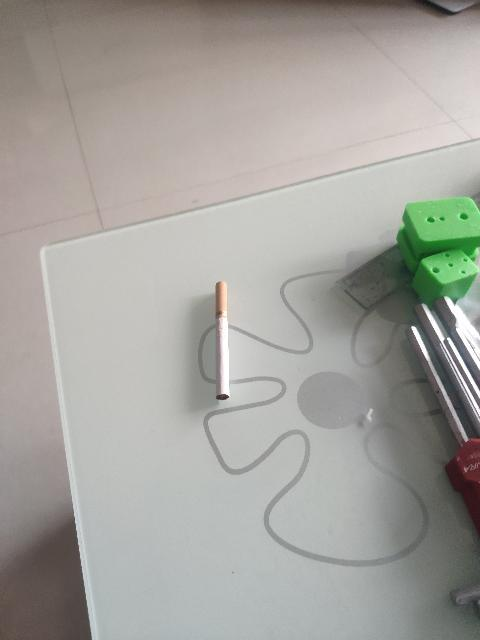Smoking: (216, 282, 232, 401)
